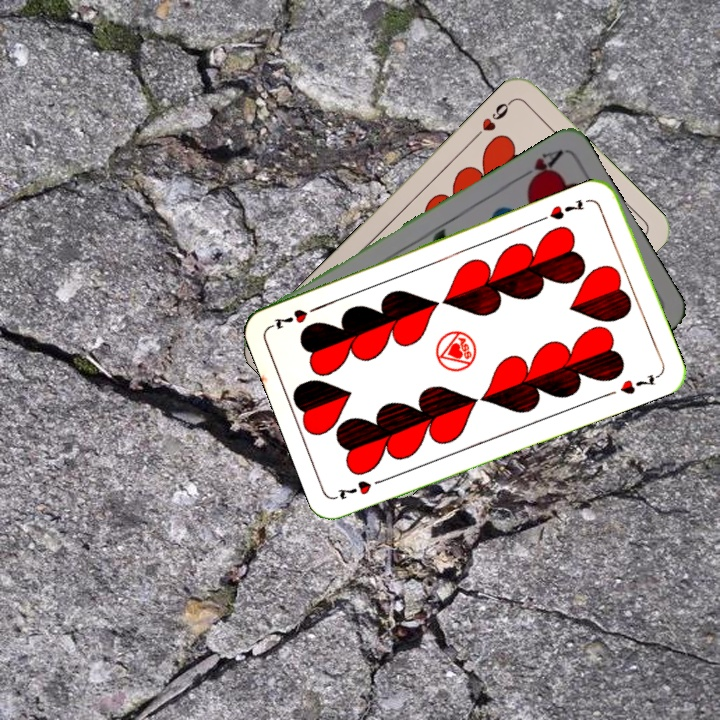H7: (333, 473, 390, 503), (545, 195, 588, 223)
H9: (469, 96, 515, 143)
HA: (511, 145, 565, 189)
